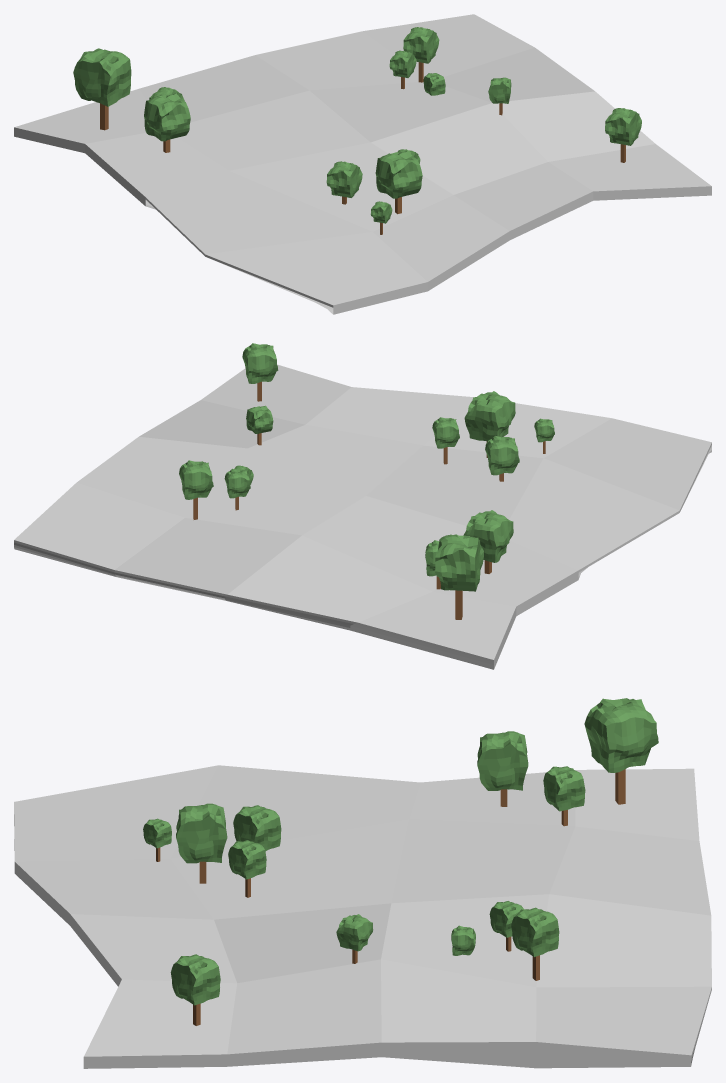
File: island5.glb
3 views of the same model, one above another, from view 1: azimuth 30°, elevation 25°; view 2: azimuth 150°, elevation 25°; view 3: azimuth 270°, elevation 25° (orthographic). The views are drawn at different scales.
Visible parts, largest first — view 1: Hill.001, Tree.014, Tree.005, Tree.012, Tree.015, Tree.008, Tree.009, Tree.011, Tree.023; view 2: Hill.001, Tree.014, Tree.005, Tree.012, Tree.015, Tree.009, Tree.008, Tree.007, Tree.023, Tree.011; view 3: Hill.001, Tree.014, Tree.012, Tree.005, Tree.015, Tree.009, Tree.008, Tree.013, Tree.007, Tree.023, Tree.011, Tree.016 (+1 smaller).
Part boxes in pixels (left/top/right/bottom): Hill.001: left=14, top=14, right=711, bottom=314; Tree.014: left=73, top=48, right=131, bottom=106; Tree.005: left=375, top=151, right=422, bottom=198; Tree.012: left=144, top=93, right=190, bottom=141; Tree.015: left=605, top=108, right=641, bottom=145; Tree.008: left=326, top=161, right=362, bottom=197; Tree.009: left=403, top=27, right=439, bottom=63; Tree.011: left=389, top=50, right=416, bottom=77; Tree.023: left=488, top=77, right=511, bottom=103; Hill.001: left=14, top=364, right=711, bottom=669; Tree.014: left=435, top=534, right=483, bottom=591; Tree.005: left=464, top=391, right=515, bottom=441; Tree.012: left=463, top=510, right=513, bottom=562; Tree.015: left=242, top=343, right=278, bottom=383; Tree.009: left=179, top=460, right=213, bottom=499; Tree.008: left=485, top=436, right=519, bottom=475; Tree.007: left=432, top=417, right=459, bottom=448; Tree.023: left=246, top=405, right=273, bottom=433; Tree.011: left=224, top=468, right=250, bottom=498; Hill.001: left=14, top=765, right=711, bottom=1068; Tree.014: left=584, top=698, right=658, bottom=772; Tree.012: left=477, top=731, right=528, bottom=790; Tree.005: left=176, top=803, right=227, bottom=863; Tree.015: left=170, top=954, right=220, bottom=1005; Tree.009: left=511, top=907, right=559, bottom=956; Tree.008: left=233, top=805, right=281, bottom=851; Tree.013: left=543, top=766, right=585, bottom=811; Tree.007: left=228, top=840, right=266, bottom=879; Tree.023: left=336, top=914, right=373, bottom=951; Tree.011: left=489, top=901, right=523, bottom=937; Tree.016: left=143, top=818, right=171, bottom=848.
Size of the model in its own units: 4.03 by 0.7417 by 4.09.
